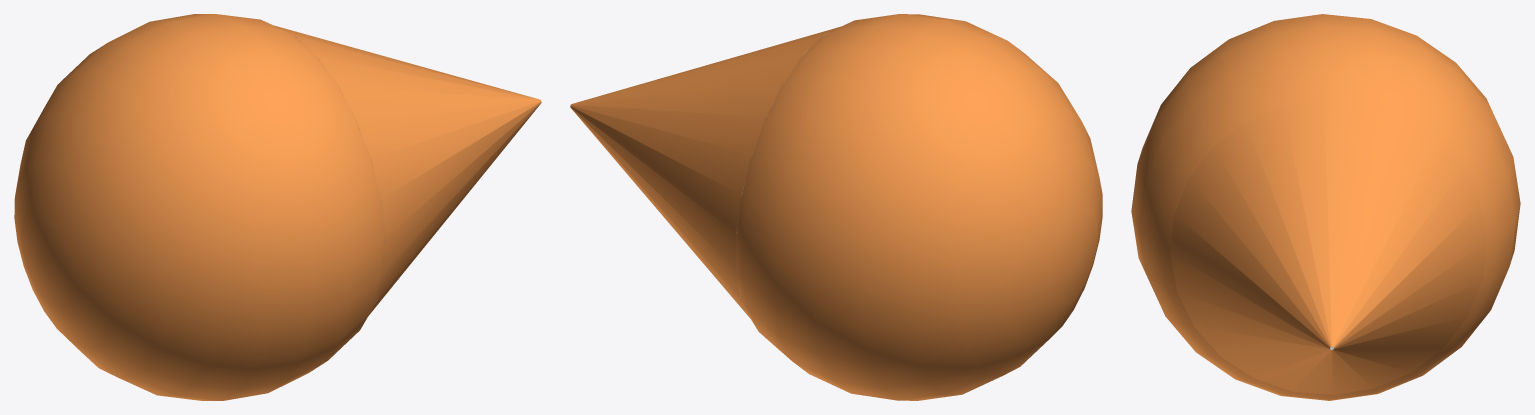
3 views of the same model, side by side, from view 1: azimuth 30°, elevation 25°; view 2: azimuth 150°, elevation 25°; view 3: azimuth 270°, elevation 25° (orthographic).
Parts seen in each view (by area): view 1: SketchUp (×2); view 2: SketchUp (×2); view 3: SketchUp (×2).
Part boxes in pixels (x1,y1,x2,y2): SketchUp (×2): [14, 14, 541, 400]; SketchUp (×2): [570, 14, 1102, 400]; SketchUp (×2): [1131, 14, 1520, 400].
Size of the model in its own units: 1498 by 1005 by 1004.
